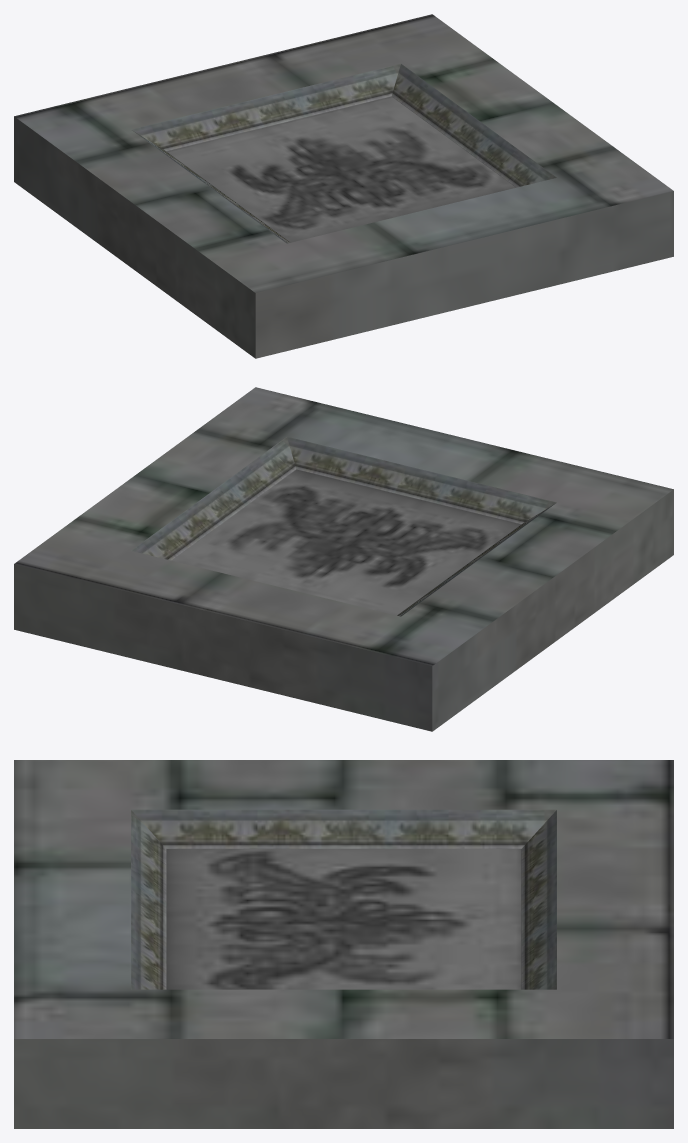
File: sd_flat_ceiling_small_02.glb
3 views of the same model, one above another, from view 1: azimuth 30°, elevation 25°; view 2: azimuth 150°, elevation 25°; view 3: azimuth 270°, elevation 25° (orthographic). The views are drawn at different scales.
Parts seen in each view (by area): view 1: flat_ceiling_small_02; view 2: flat_ceiling_small_02; view 3: flat_ceiling_small_02.
Boxes of the visible parts, x1=… form: flat_ceiling_small_02: x1=14, y1=14, x2=673, y2=358; flat_ceiling_small_02: x1=14, y1=387, x2=673, y2=731; flat_ceiling_small_02: x1=14, y1=760, x2=673, y2=1128.
Bounding box in the file's own units: 2 × 0.3001 × 2.
Materials: 1 (1 with a texture image).
